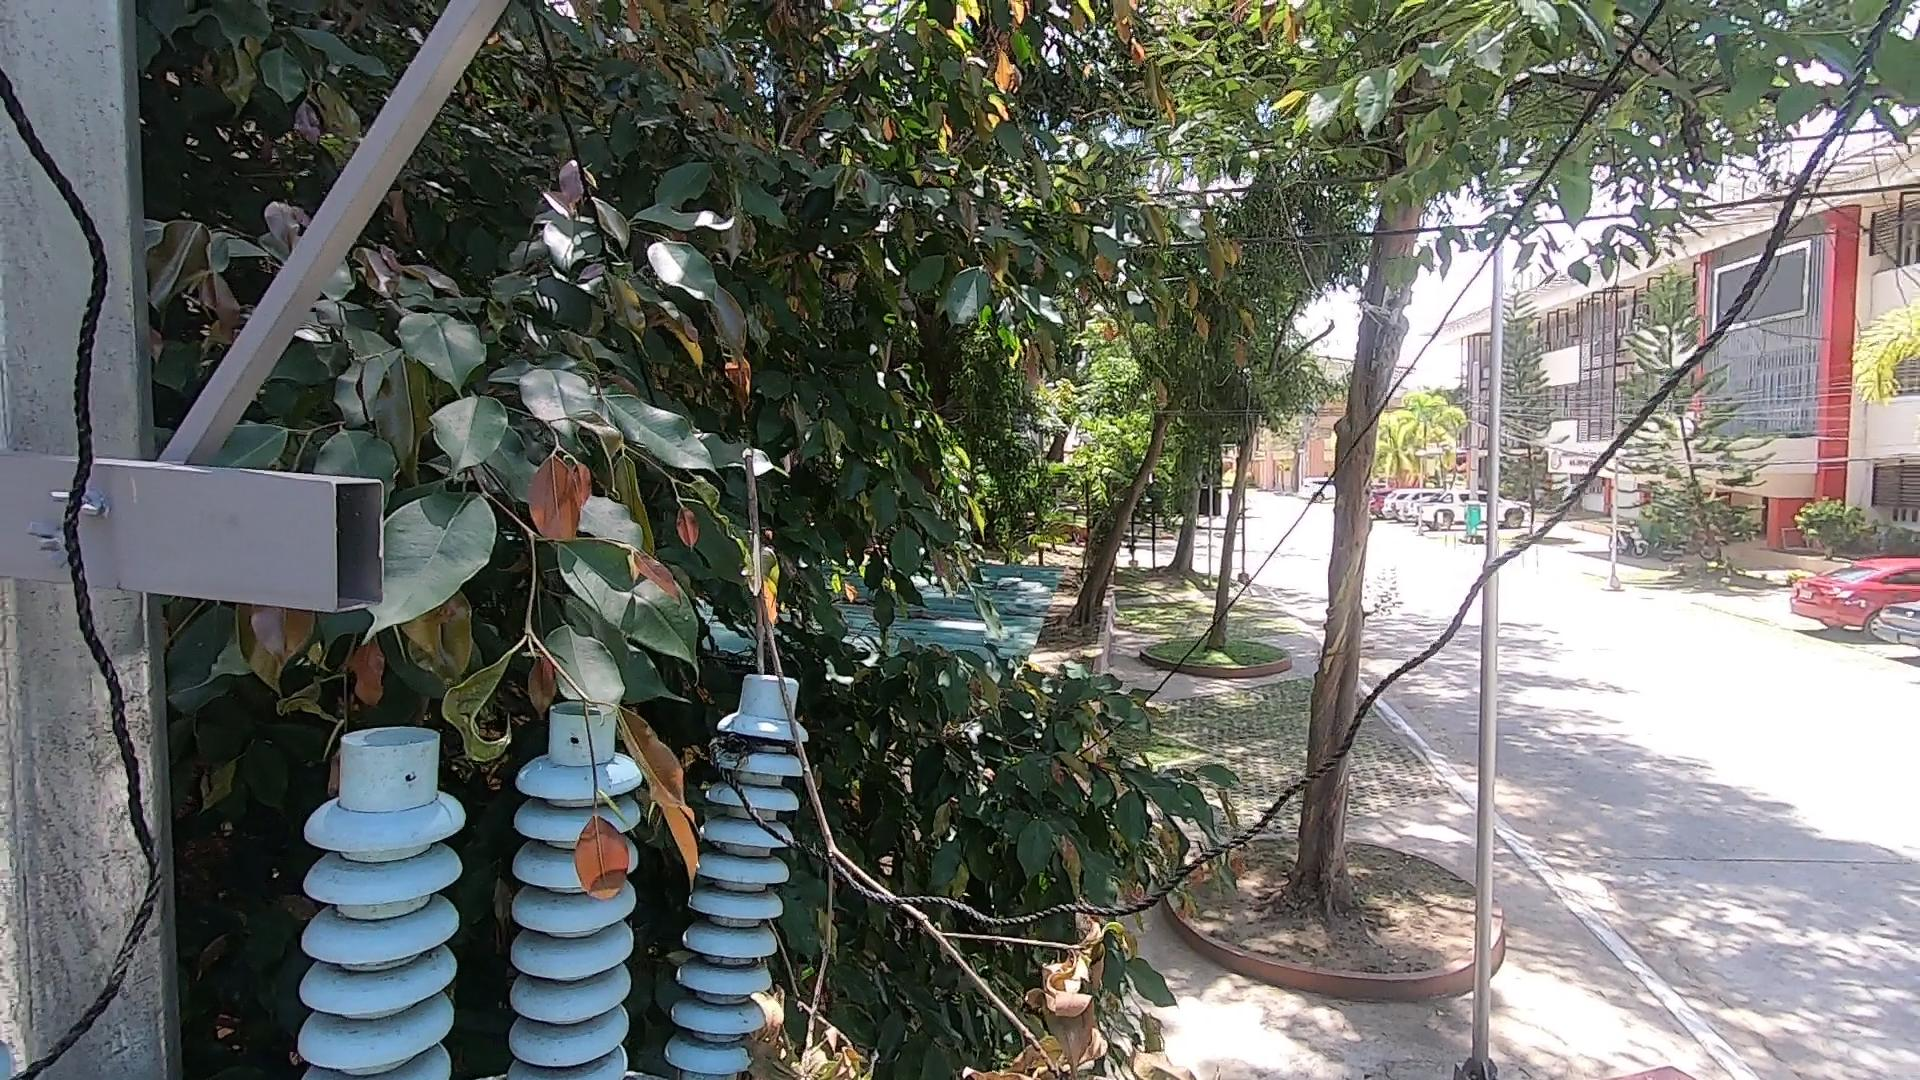branch with leaves: (713, 435, 1237, 1080)
